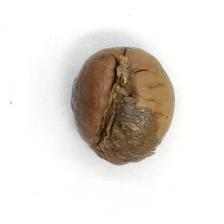NG: (94, 79, 159, 164)
